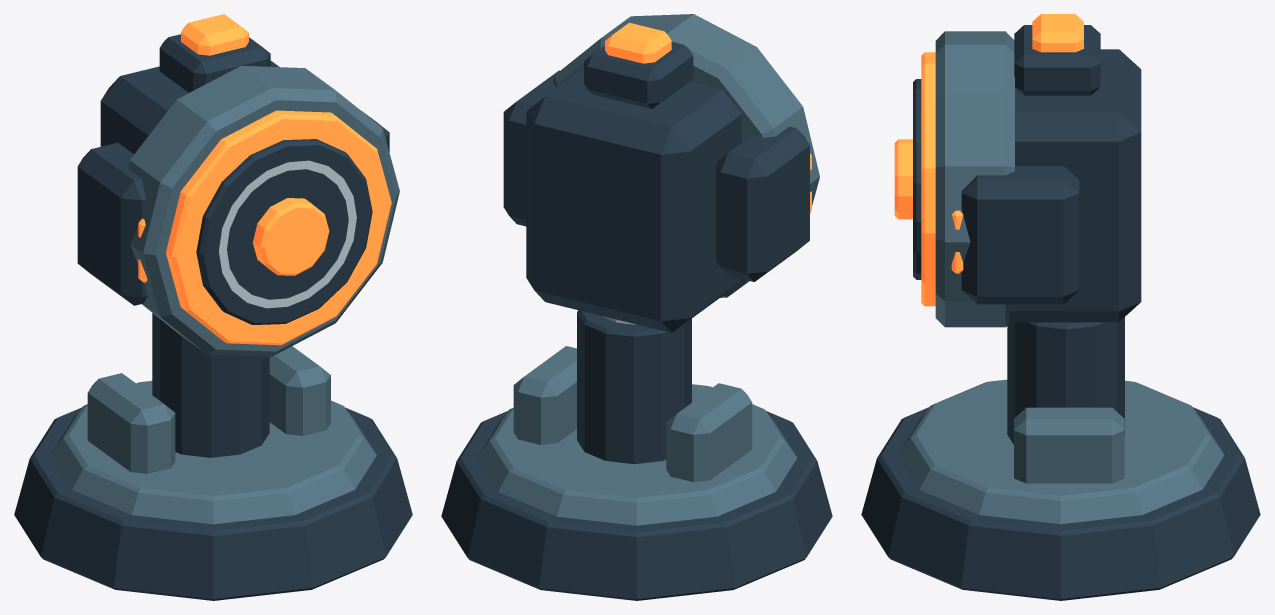
File: GroundTarget.fbx
3 views of the same model, side by side, from view 1: azimuth 30°, elevation 25°; view 2: azimuth 150°, elevation 25°; view 3: azimuth 270°, elevation 25° (orthographic). The views are drawn at different scales.
Parts seen in each view (by area): view 1: GroundTargetBody, ImpactCore_FX; view 2: GroundTargetBody; view 3: GroundTargetBody, ImpactCore_FX.
Part boxes in pixels (bbox=[...]): GroundTargetBody: bbox=[14, 14, 412, 600]; ImpactCore_FX: bbox=[252, 198, 329, 275]; GroundTargetBody: bbox=[441, 14, 832, 600]; GroundTargetBody: bbox=[861, 14, 1260, 600]; ImpactCore_FX: bbox=[894, 139, 912, 219].
Size of the model in its own units: 116 by 158 by 116.
